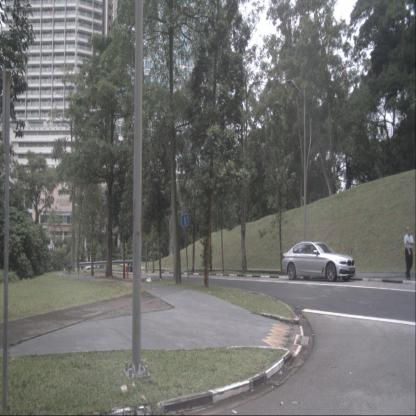human-pedestrian-adult: (404, 226, 414, 278)
vehicle-car: (282, 242, 356, 282)
